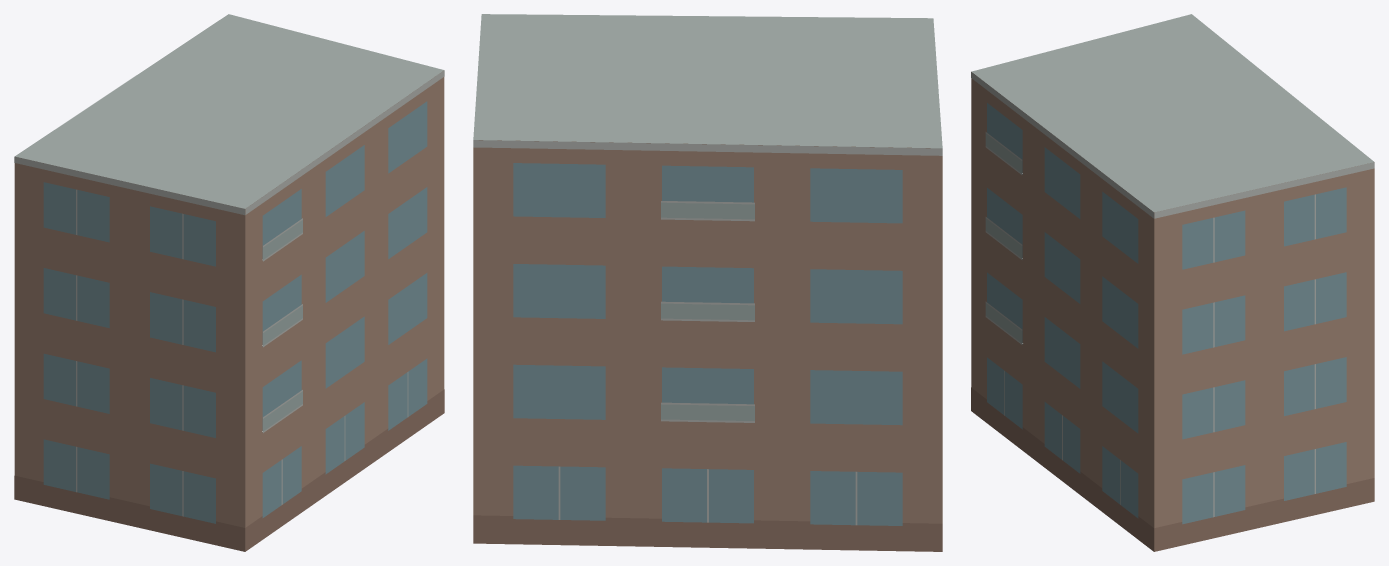
Rendered from survey-upis-32792428.glb.
3 renders of one model, left to right at view 1: azimuth 30°, elevation 25°; view 2: azimuth 150°, elevation 25°; view 3: azimuth 270°, elevation 25°, orthographic. The views are drawn at different scales.
Parts seen in each view (by area): view 1: survey-upis-32792428.tmp; view 2: survey-upis-32792428.tmp; view 3: survey-upis-32792428.tmp.
Part boxes in pixels (bbox=[...]): survey-upis-32792428.tmp: bbox=[14, 14, 444, 551]; survey-upis-32792428.tmp: bbox=[473, 14, 942, 551]; survey-upis-32792428.tmp: bbox=[971, 14, 1374, 551].
Bounding box in the file's own units: 16.37 × 13.05 × 14.07.
